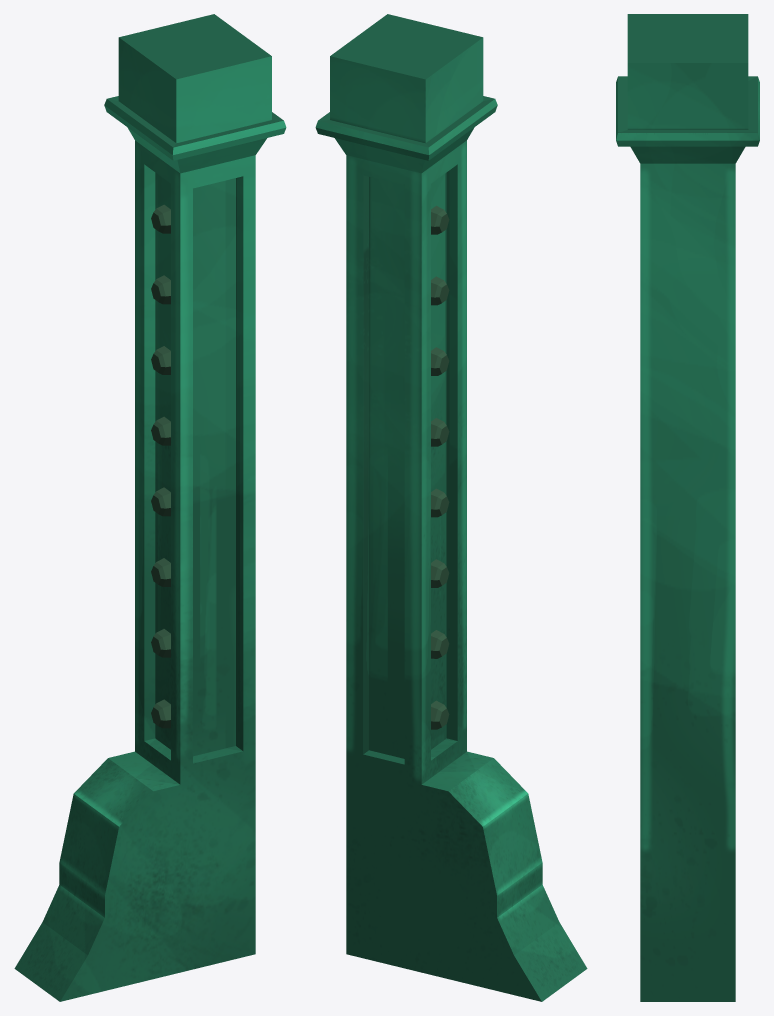
File: Pilar-1.fbx
3 renders of one model, left to right at view 1: azimuth 30°, elevation 25°; view 2: azimuth 150°, elevation 25°; view 3: azimuth 270°, elevation 25°, orthographic. The views are drawn at different scales.
Parts seen in each view (by area): view 1: Cube.056, Bolt.261; view 2: Cube.056, Bolt.261; view 3: Cube.056.
Part boxes in pixels (<box>): Cube.056: <box>14,14,286,1001</box>; Bolt.261: <box>151,204,170,728</box>; Cube.056: <box>315,14,587,1001</box>; Bolt.261: <box>431,205,449,729</box>; Cube.056: <box>616,14,759,1001</box>.
Size of the model in its own units: 408 by 2957 by 739.
2 materials, 1 textured.
